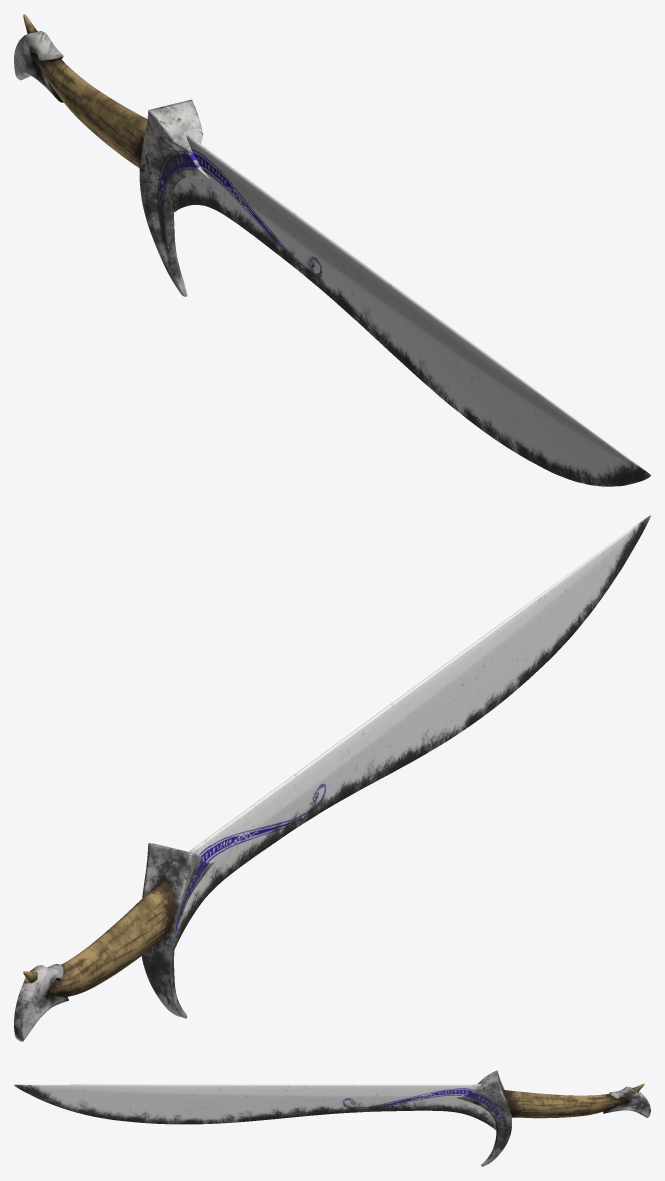
The model's file is Orcrist.obj.
3 views of the same model, one above another, from view 1: azimuth 30°, elevation 25°; view 2: azimuth 150°, elevation 25°; view 3: azimuth 270°, elevation 25° (orthographic). The views are drawn at different scales.
Visible parts, largest first — view 1: Hoja_low_Mesh.003, Guarda_low_Mesh.002, Empunadura_low_Mesh.001, Base_low_Mesh; view 2: Hoja_low_Mesh.003, Empunadura_low_Mesh.001, Guarda_low_Mesh.002, Base_low_Mesh; view 3: Hoja_low_Mesh.003, Empunadura_low_Mesh.001, Guarda_low_Mesh.002, Base_low_Mesh.
Part boxes in pixels (x1,y1,x2,y2): Hoja_low_Mesh.003: (170, 134, 650, 486); Guarda_low_Mesh.002: (139, 99, 209, 296); Empunadura_low_Mesh.001: (23, 14, 147, 168); Base_low_Mesh: (14, 31, 63, 102); Hoja_low_Mesh.003: (174, 515, 650, 948); Empunadura_low_Mesh.001: (23, 881, 174, 996); Guarda_low_Mesh.002: (141, 843, 215, 1018); Base_low_Mesh: (14, 964, 68, 1041); Hoja_low_Mesh.003: (14, 1084, 496, 1130); Empunadura_low_Mesh.001: (502, 1083, 644, 1118); Guarda_low_Mesh.002: (455, 1070, 511, 1166); Base_low_Mesh: (603, 1086, 650, 1117).
Size of the model in its own units: 0.0383 by 0.1512 by 0.9609.
3 materials, 3 textured.
